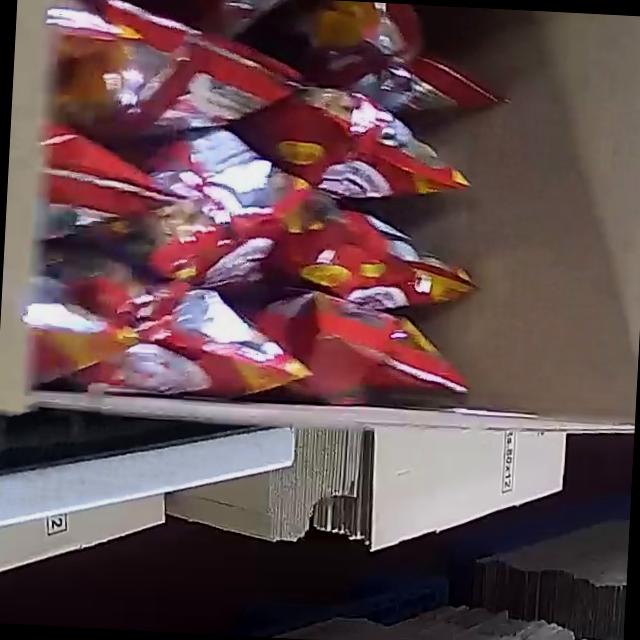masala: (20, 0, 513, 418)
